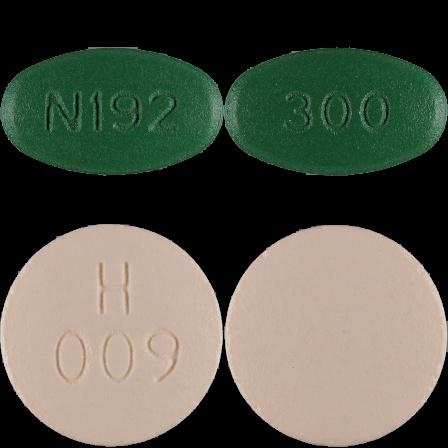52125-999: (0, 0, 224, 224)
